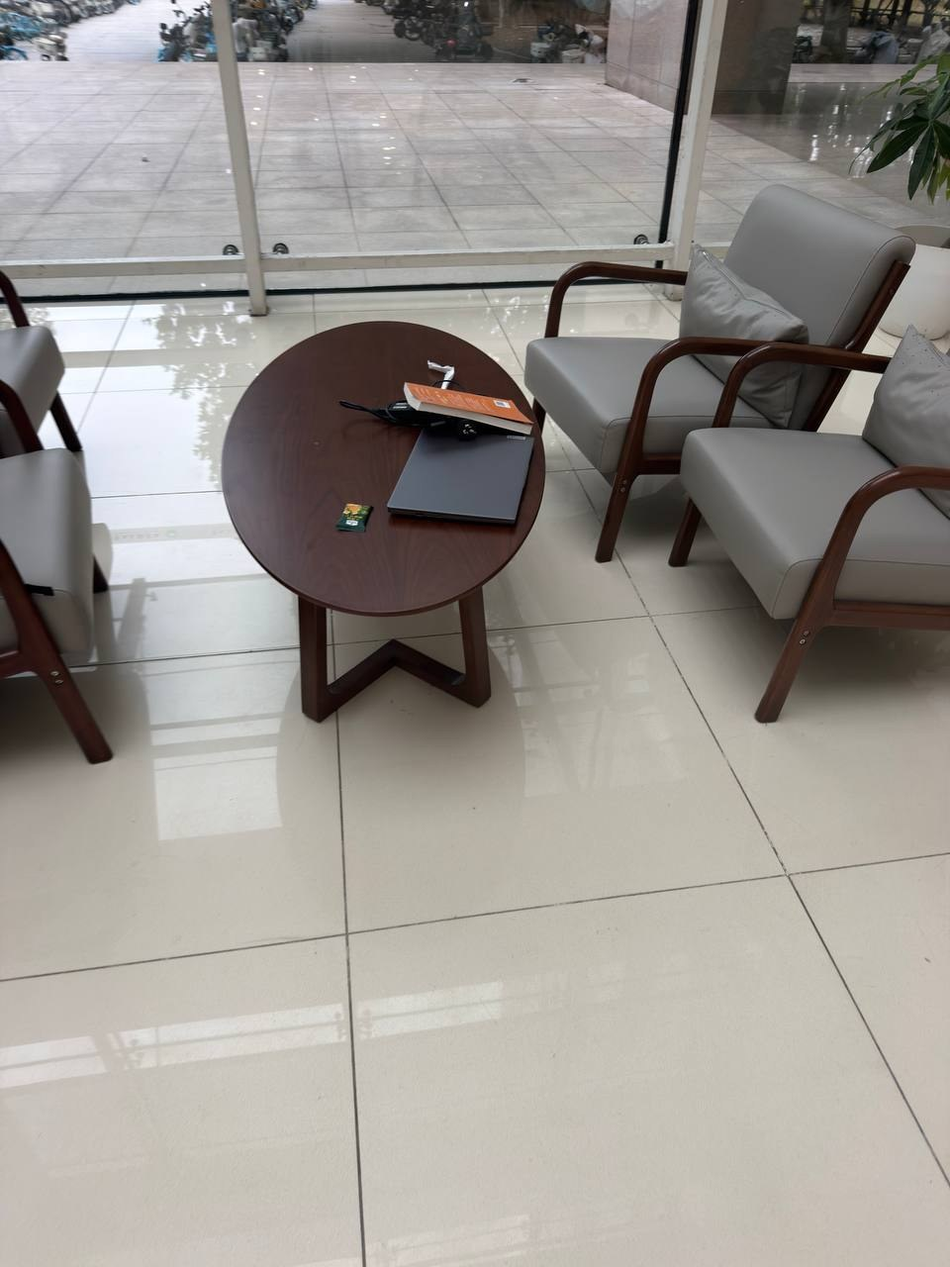laptop: (387, 424, 535, 526)
